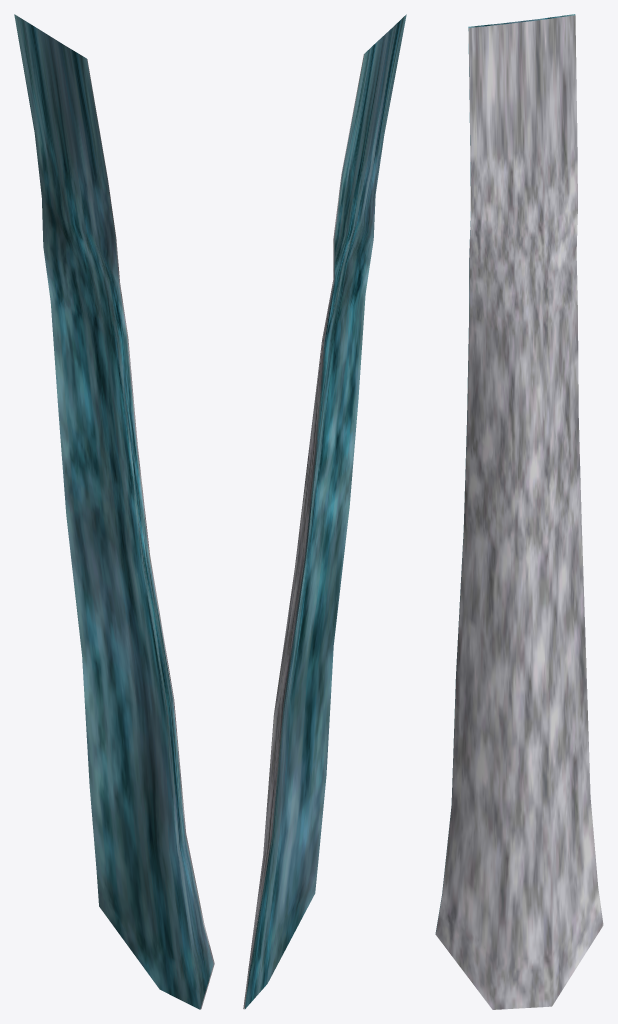
The model's file is OVERHILL_A_01_WATERFALLS07.fbx.
The picture shows the model from 3 angles, left to right: view 1: azimuth 30°, elevation 25°; view 2: azimuth 150°, elevation 25°; view 3: azimuth 270°, elevation 25°; orthographic projection. The views are drawn at different scales.
Visible parts, largest first — view 1: OVERHILL_A_01_WATERFALLS07; view 2: OVERHILL_A_01_WATERFALLS07; view 3: OVERHILL_A_01_WATERFALLS07.
Boxes of the visible parts, x1,y1,x2,y2 form: OVERHILL_A_01_WATERFALLS07: [14, 14, 214, 1009]; OVERHILL_A_01_WATERFALLS07: [243, 14, 406, 1009]; OVERHILL_A_01_WATERFALLS07: [435, 14, 603, 1009].
Bounding box in the file's own units: 10380 × 69348 × 11336.
Materials: 2 (2 with a texture image).
